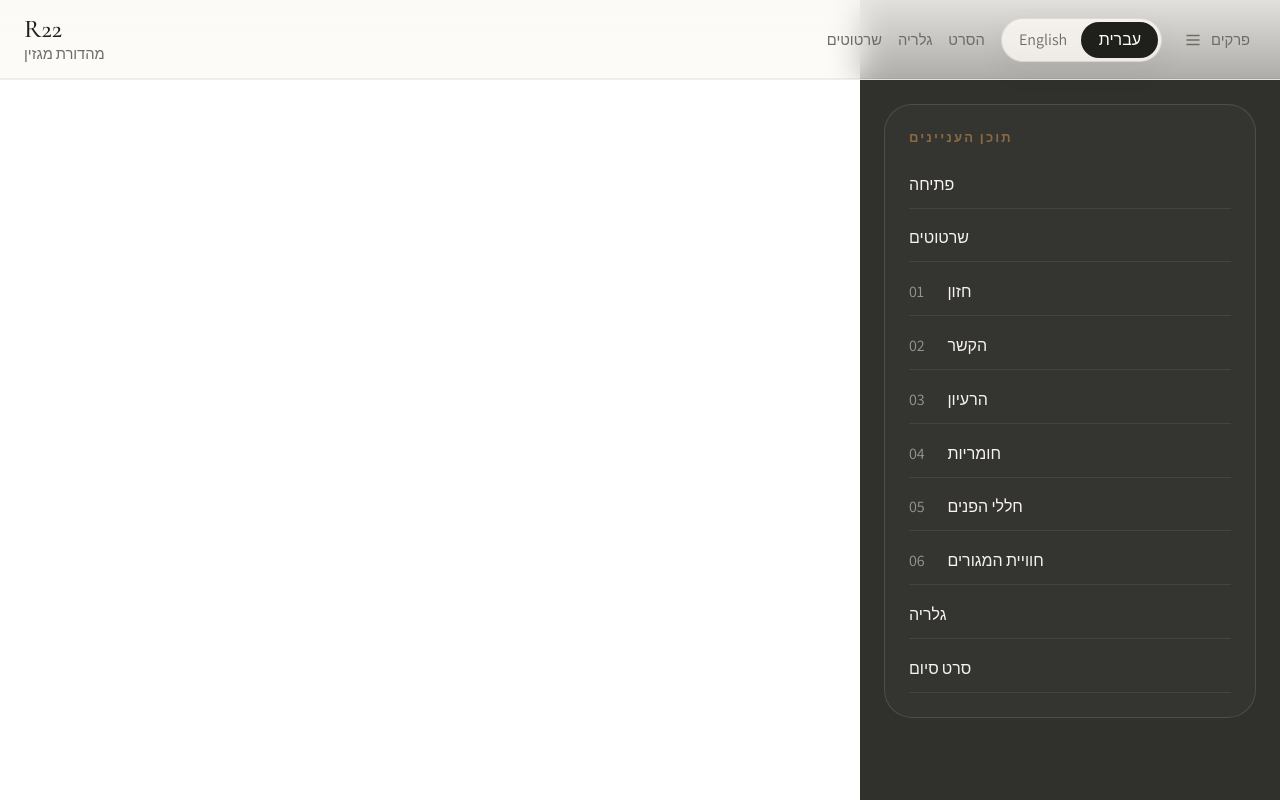
Test: navigation drawer › keeps the Hebrew drawer off-canvas to the left until opened
This screenshot has width=1280, height=800.
What coordinates should you click on to do the following:
click the button "פרקים"
I would click on:
 (1217, 40)
Its box is [1178,29,1256,50].
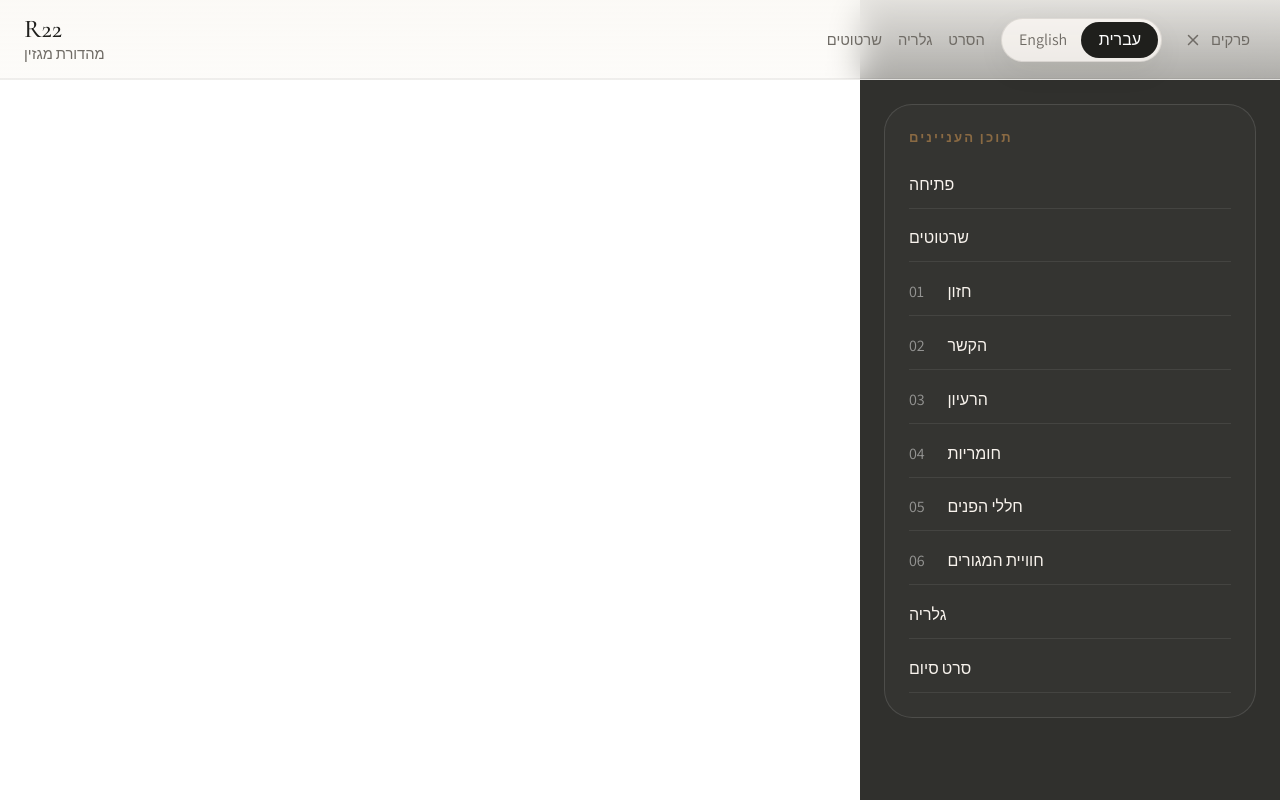
Check: the button "פרקים" is expanded, box [1178,29,1256,50]
